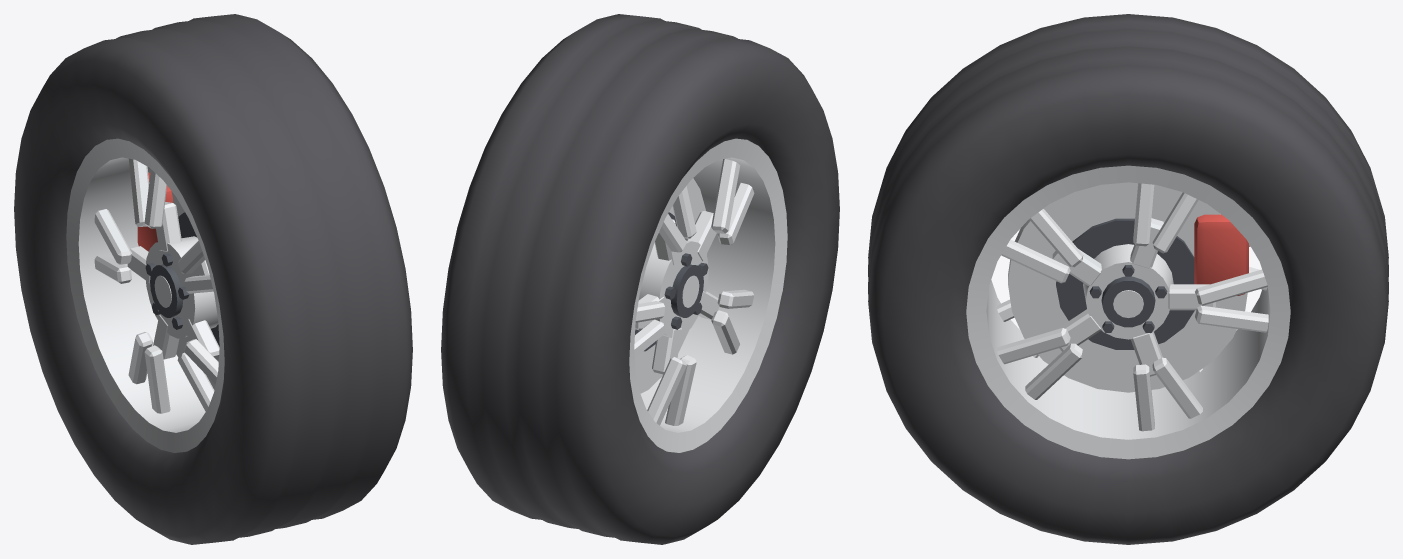
Rendered from Car_Wheel.fbx.
The picture shows the model from 3 angles, left to right: view 1: azimuth 30°, elevation 25°; view 2: azimuth 150°, elevation 25°; view 3: azimuth 270°, elevation 25°; orthographic projection.
Parts seen in each view (by area): view 1: Car_Wheel; view 2: Car_Wheel; view 3: Car_Wheel.
Boxes of the visible parts, x1=… form: Car_Wheel: x1=14, y1=14, x2=412, y2=544; Car_Wheel: x1=441, y1=14, x2=839, y2=544; Car_Wheel: x1=868, y1=14, x2=1388, y2=544.
Size of the model in its own units: 0.25 by 0.682 by 0.682.
